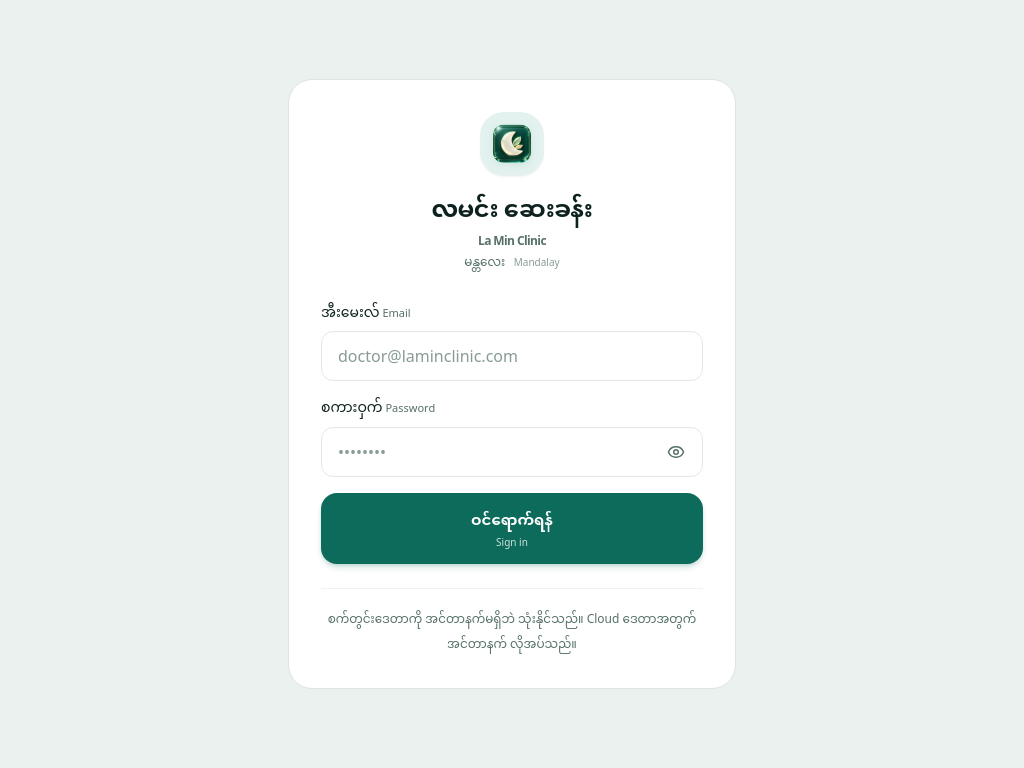
Test case: App (local mode) › opens the selected ledger day from the monthly report
The width and height of the screenshot is (1024, 768).
Type "doctor@example.com" into the field labelled "အီးမေးလ် Email" at point(512, 356), box [321,332,703,382]
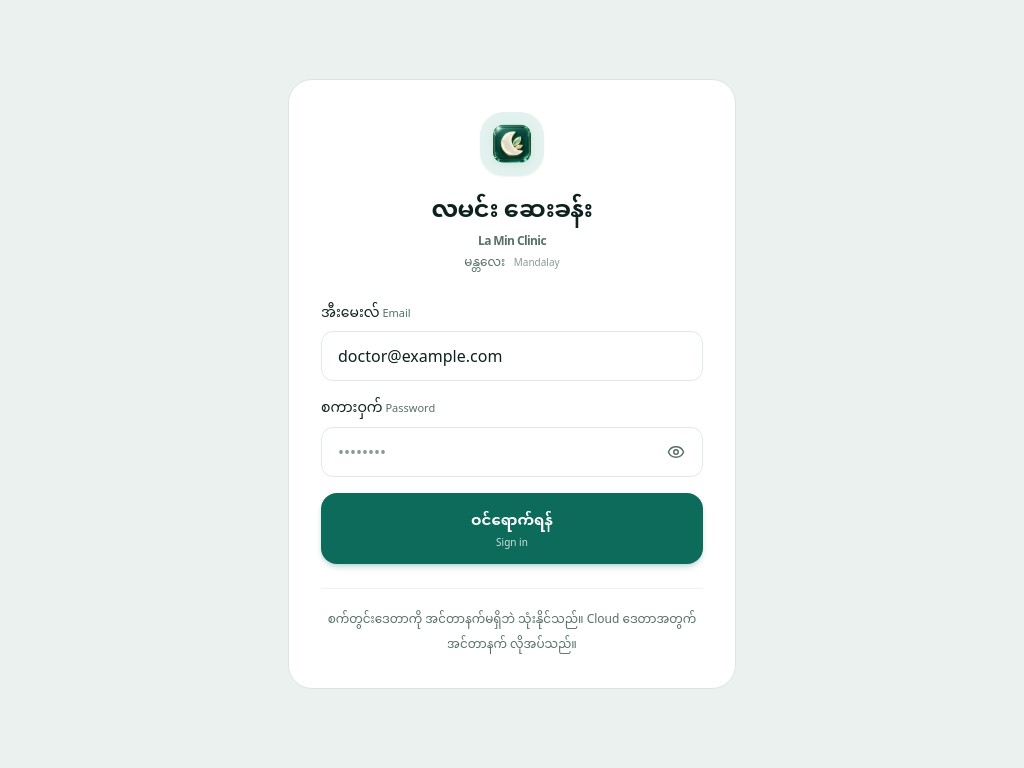
Type "local-demo" into the password field labelled "စကားဝှက် Password" at point(512, 452), box [321,427,703,477]
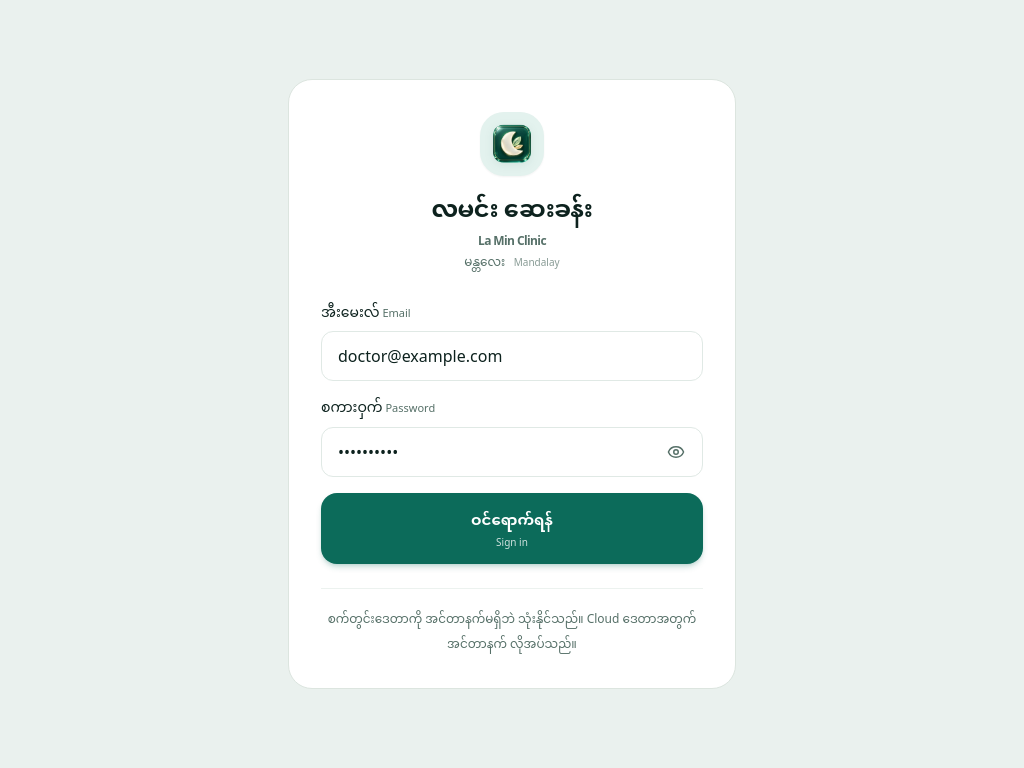
Click the button "ဝင်ရောက်ရန် Sign in" at point(512, 529), box [321,493,703,564]
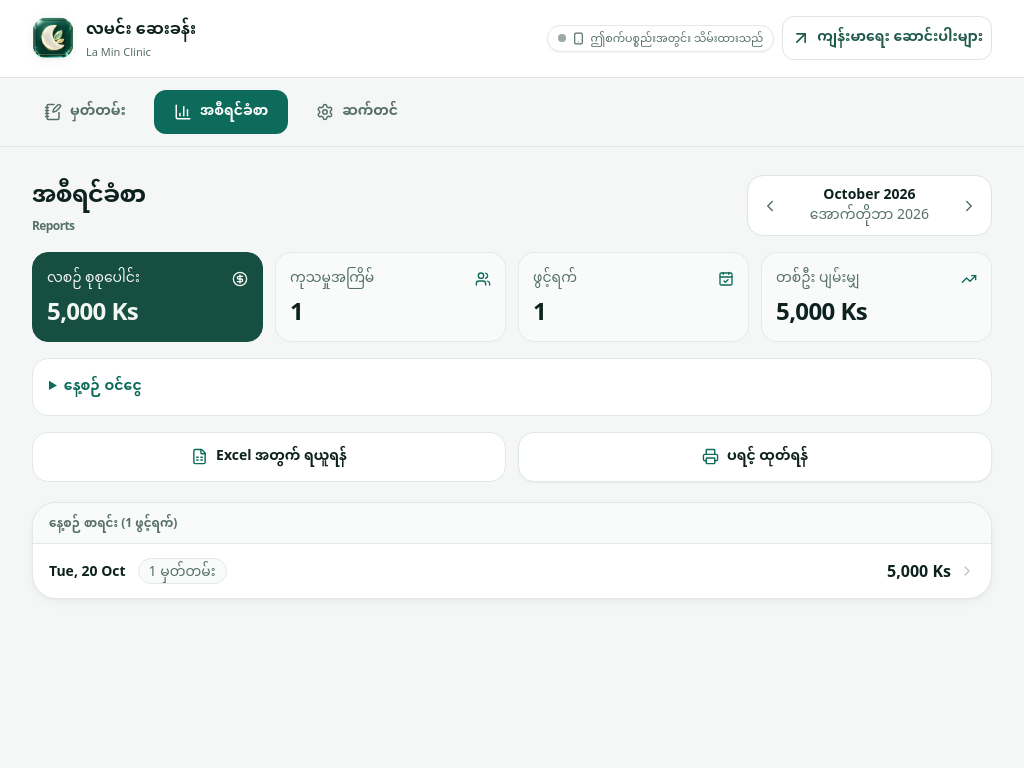
Click the button "Tue, 20 Oct 1 မှတ်တမ်း 5,000 Ks" at point(87, 570), box [33,544,991,598]
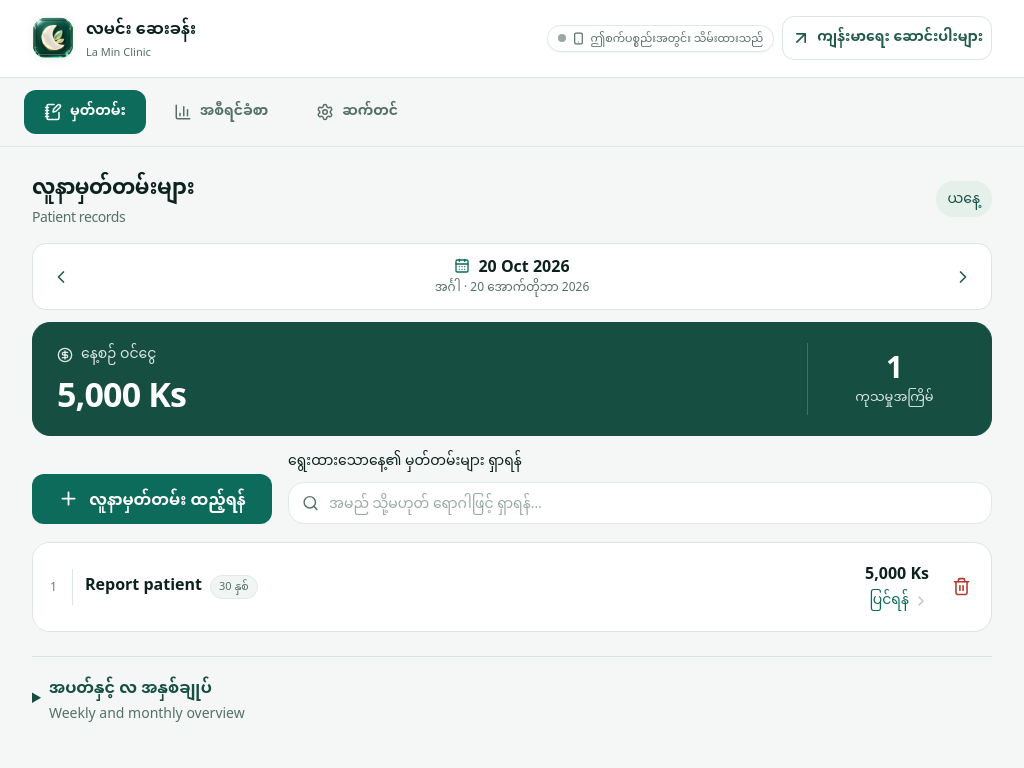
Expected: the text "Report patient" is shown, [85,573,202,600]
